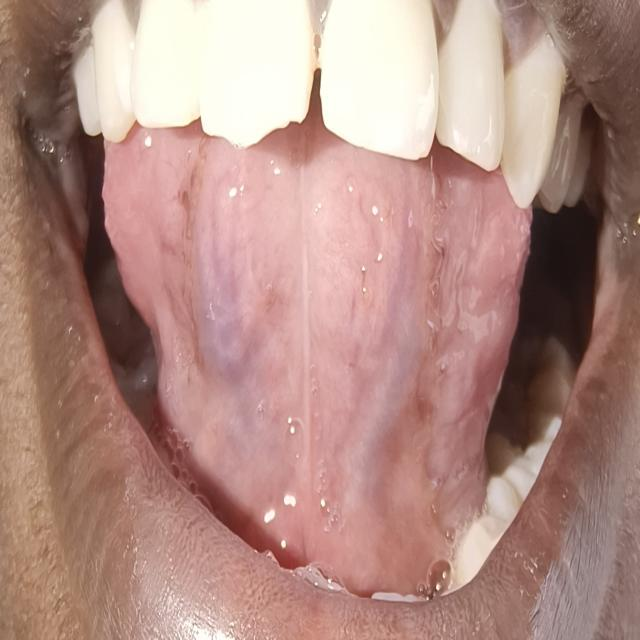processing_area: (108, 115, 514, 585)
